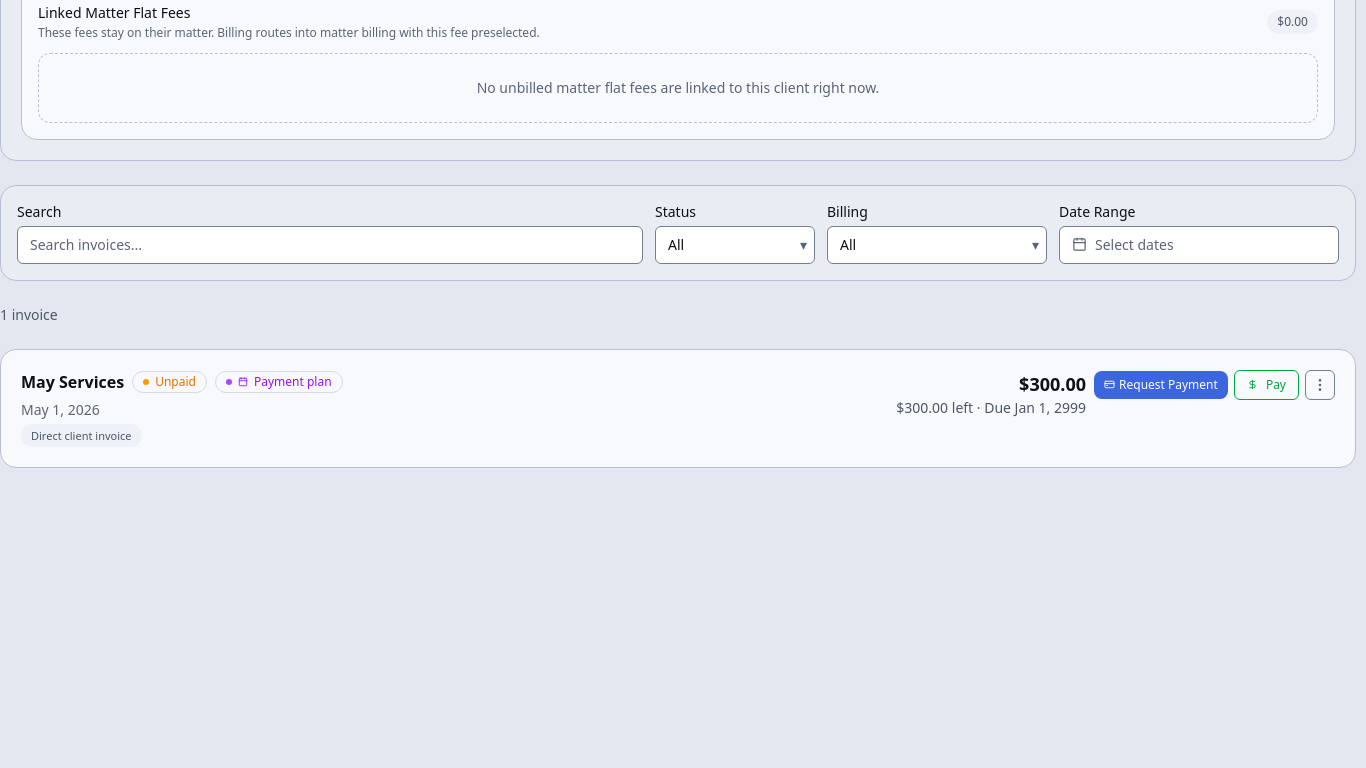
it: warns that requesting again replaces the link after a failed bank attempt
(page scrolled)
Click the button "Request Payment".
click(1161, 384)  # box [1094,370,1228,398]
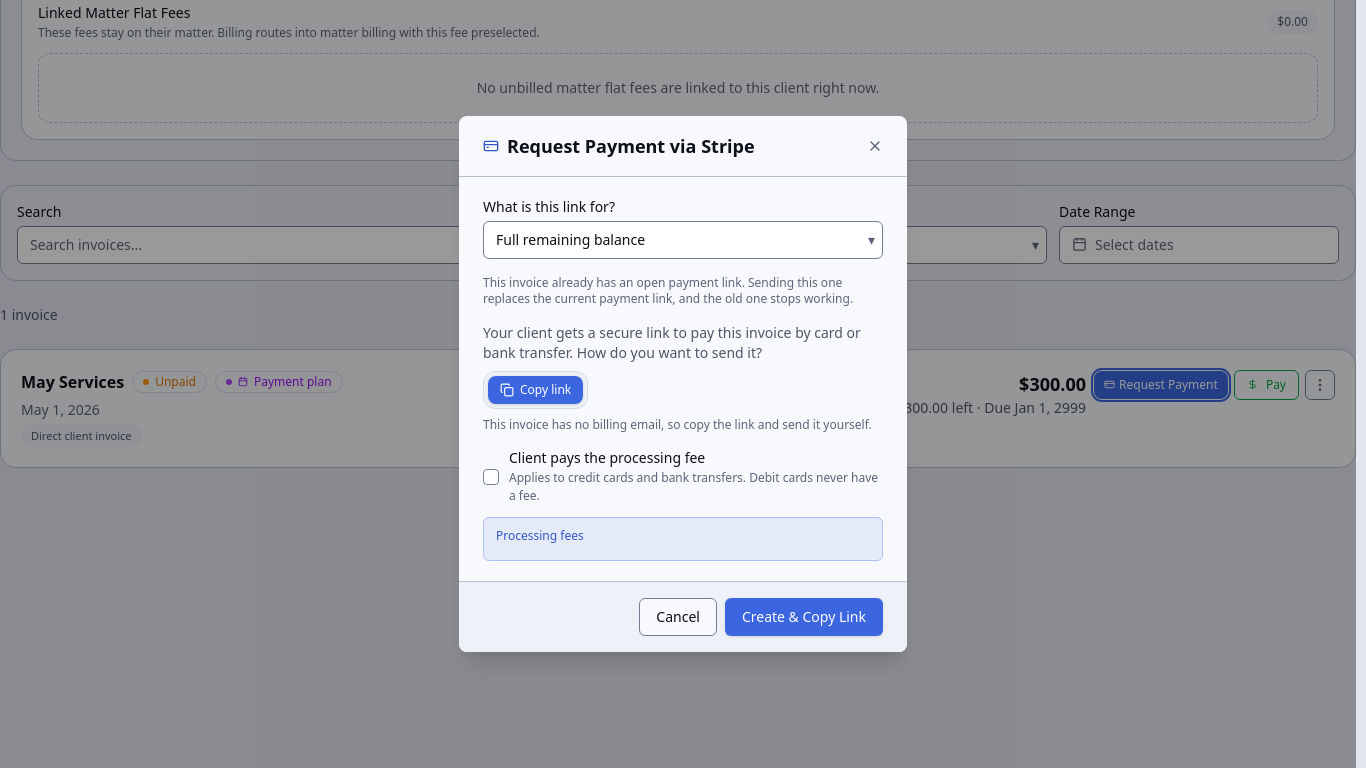
Result: the text "replaces the current payment link" is shown at [483,274,853,307]
